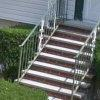stairs: (16, 21, 96, 100)
